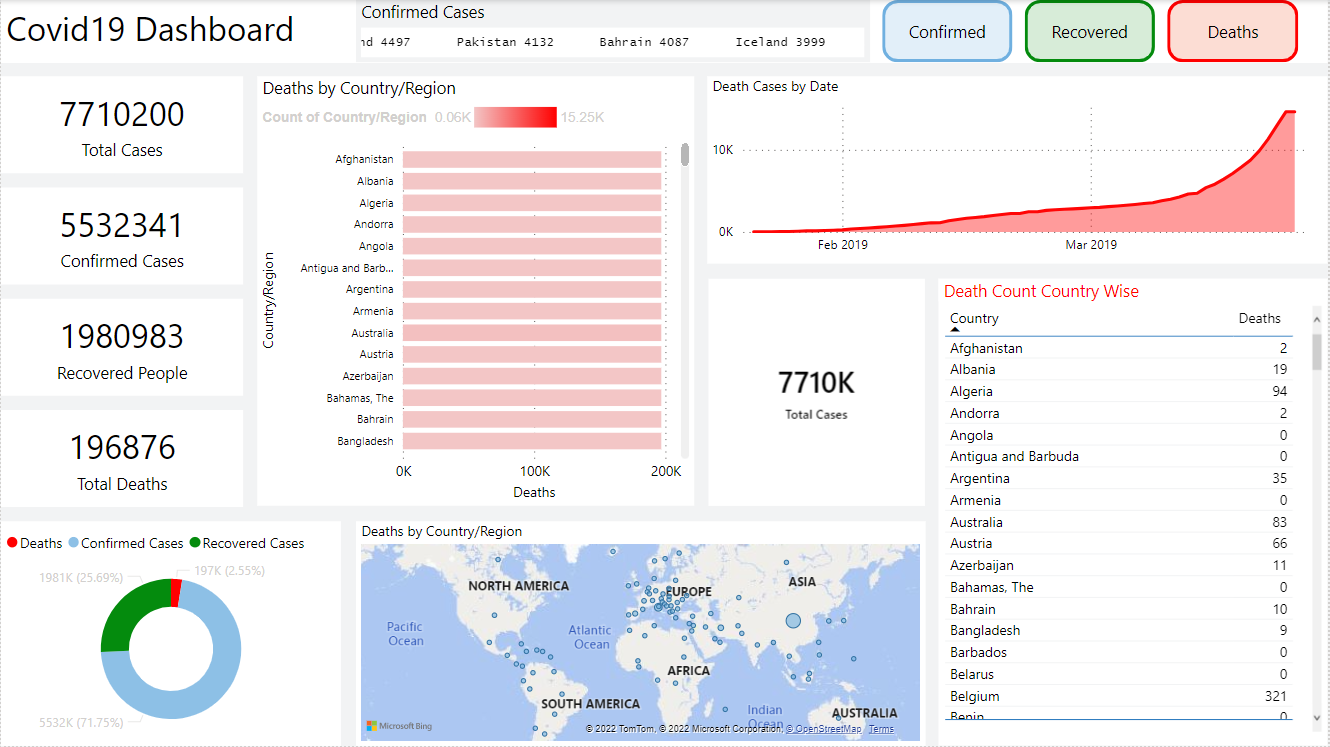

What the dashboard file says about the page in this screenshot:
{"tool":"powerbi","page":{"name":"Covid19 Dashboard","canvas":[1280,720],"ordinal":0},"visuals":[{"type":"textbox","box":[0,0,1280,60.4],"z":0},{"type":"card","fields":{"Values":["Countries.Total Cases"]},"box":[0,74.2,233.5,93.4],"z":1000},{"type":"card","fields":{"Values":["Sum(Confirmed Cases.Confirmed)"]},"box":[0,181.3,233.5,93.4],"z":2000},{"type":"card","fields":{"Values":["Sum(Recovered Cases.Recovered)"]},"box":[0,288.4,233.5,93.4],"z":3000},{"type":"card","fields":{"Values":["Sum(Death Cases.Death)"]},"box":[0,395.5,233.5,93.4],"z":4000},{"type":"donutChart","fields":{"Y":["Sum(Death Cases.Death)","Sum(Confirmed Cases.Confirmed)","Sum(Recovered Cases.Recovered)"]},"box":[0,502.7,328.2,217],"z":5000},{"type":"barChart","fields":{"Category":["Confirmed Cases.Country/Region"],"Y":["Sum(Death Cases.Death)"]},"box":[247.2,74.2,421.6,414.8],"z":6000},{"type":"map","title":"Deaths by Country/Region","fields":{"Category":["Death Cases.Country/Region"],"Size":["Sum(Death Cases.Death)"]},"box":[342,502.7,549.4,217],"z":7000},{"type":"rotatingTile1859AB39DB23400988ADF752BCB9C967","fields":{"measureData":["Countries.Total Cases","Sum(Confirmed Cases.Confirmed)","Sum(Recovered Cases.Recovered)","Sum(Death Cases.Death)"]},"box":[682.6,268.9,208.6,219.5],"z":8000},{"type":"areaChart","title":"Confirmed Cases by Date","fields":{"Y":["Sum(Confirmed Cases.Confirmed)"],"Category":["Confirmed Cases.Date"]},"box":[682.6,74.2,597.4,181.3],"z":9000},{"type":"actionButton","title":"Confirmed","box":[850.3,0,125.4,60.3],"z":10000},{"type":"actionButton","title":"Confirmed","box":[987.7,0,125.4,60.3],"z":12000},{"type":"actionButton","title":"Confirmed","box":[1125.2,0,126.6,60.3],"z":13000},{"type":"ScrollingTextVisual1448795304508","title":"Confirmed Cases","fields":{"Category":["Confirmed Cases.Country/Region"],"Measure Absolute":["Sum(Confirmed Cases.Confirmed)"]},"box":[342.5,0,495.7,60.3],"z":16000},{"type":"tableEx","title":"Confirmed Count Country Wise","fields":{"Values":["Death Cases.Country/Region","Sum(Confirmed Cases.Confirmed)"]},"box":[904.9,268.6,375.1,450.6],"z":18000}]}

Visuals, with their boxes in screenshot pixels (x1, y1, x2, y2), scaled from the page's 1280x720 canvas onto the 1330x747 screenshot:
textbox: bbox(0, 0, 1329, 63)
card - Countries.Total Cases: bbox(0, 77, 243, 174)
card - Sum(Confirmed Cases.Confirmed): bbox(0, 188, 243, 285)
card - Sum(Recovered Cases.Recovered): bbox(0, 299, 243, 396)
card - Sum(Death Cases.Death): bbox(0, 410, 243, 507)
donutChart - Sum(Death Cases.Death) x Sum(Confirmed Cases.Confirmed): bbox(0, 522, 341, 746)
barChart - Confirmed Cases.Country/Region x Sum(Death Cases.Death): bbox(257, 77, 695, 507)
"Deaths by Country/Region" map: bbox(355, 522, 926, 746)
rotatingTile1859AB39DB23400988ADF752BCB9C967 - Countries.Total Cases x Sum(Confirmed Cases.Confirmed): bbox(709, 279, 926, 507)
"Confirmed Cases by Date" areaChart: bbox(709, 77, 1329, 265)
"Confirmed" actionButton: bbox(884, 0, 1014, 63)
"Confirmed" actionButton: bbox(1026, 0, 1157, 63)
"Confirmed" actionButton: bbox(1169, 0, 1301, 63)
"Confirmed Cases" ScrollingTextVisual1448795304508: bbox(356, 0, 871, 63)
"Confirmed Count Country Wise" tableEx: bbox(940, 279, 1329, 746)
